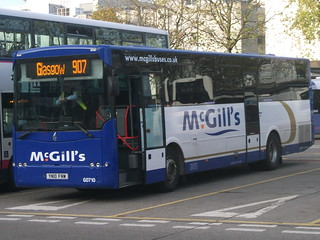bus: (11, 44, 315, 195)
